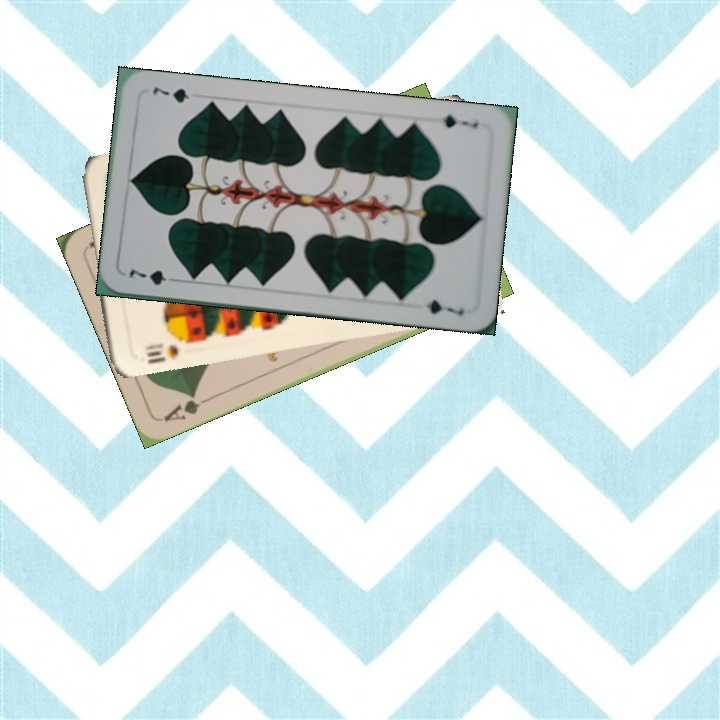G7: (125, 264, 182, 288), (438, 110, 481, 131)
GA: (159, 389, 215, 425)
S10: (140, 339, 181, 367)
